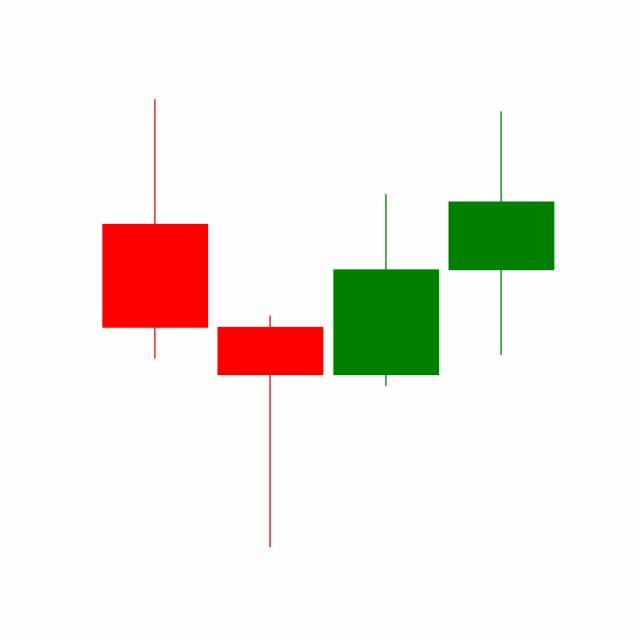Spinning Top: (444, 109, 560, 359)
